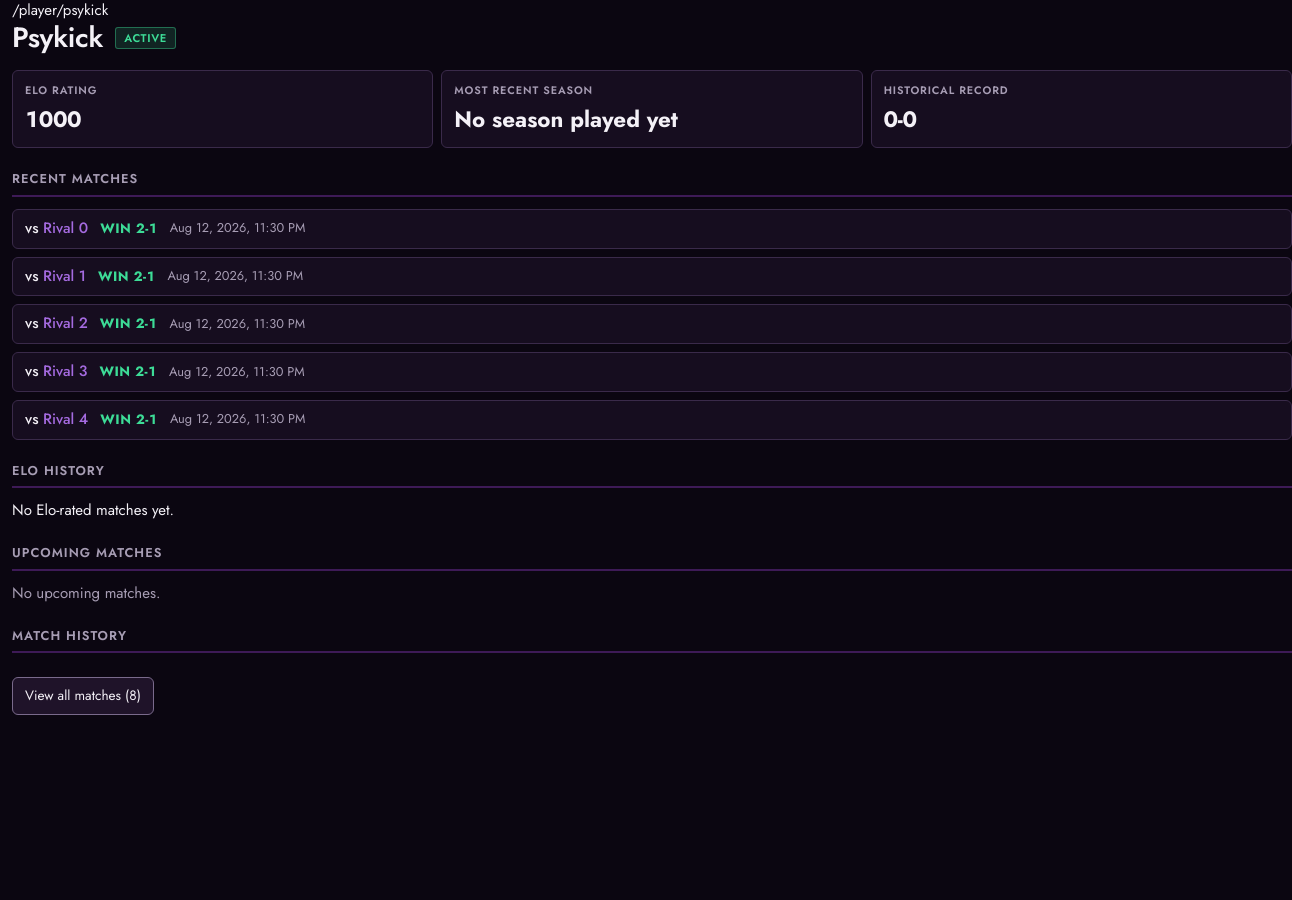
Test: PlayerDetailPage › reveals the full match history without another request
Click the button "View all matches (8)" at (83, 696), box [12, 677, 154, 715]
(page scrolled)
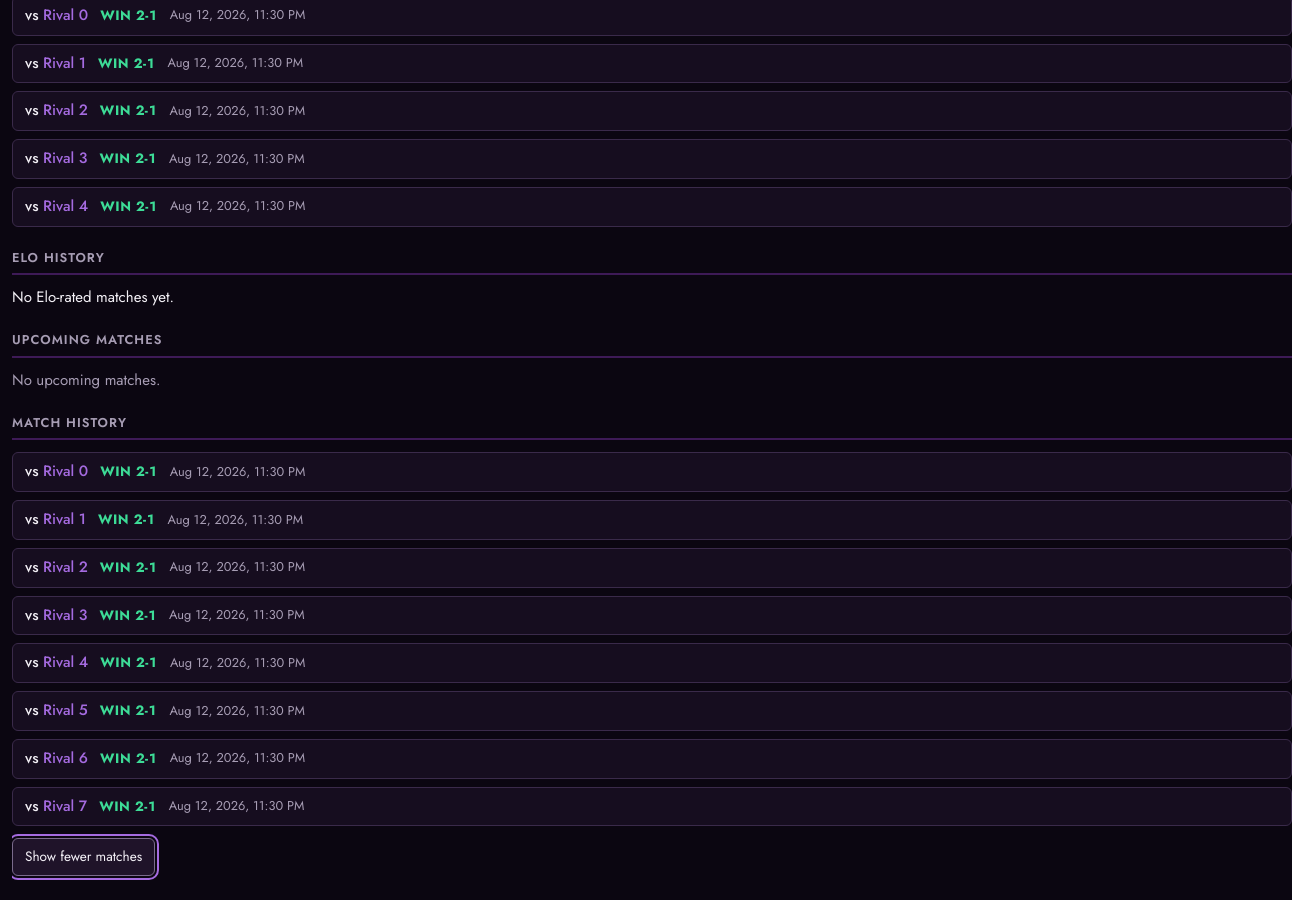
Check: the link "Rival 7" is shown, box [43, 794, 87, 816]
